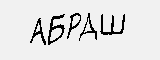А: (28, 16, 47, 47)
Б: (48, 12, 67, 47)
Д: (79, 9, 98, 43)
Р: (67, 10, 81, 45)
Ш: (99, 11, 127, 37)
